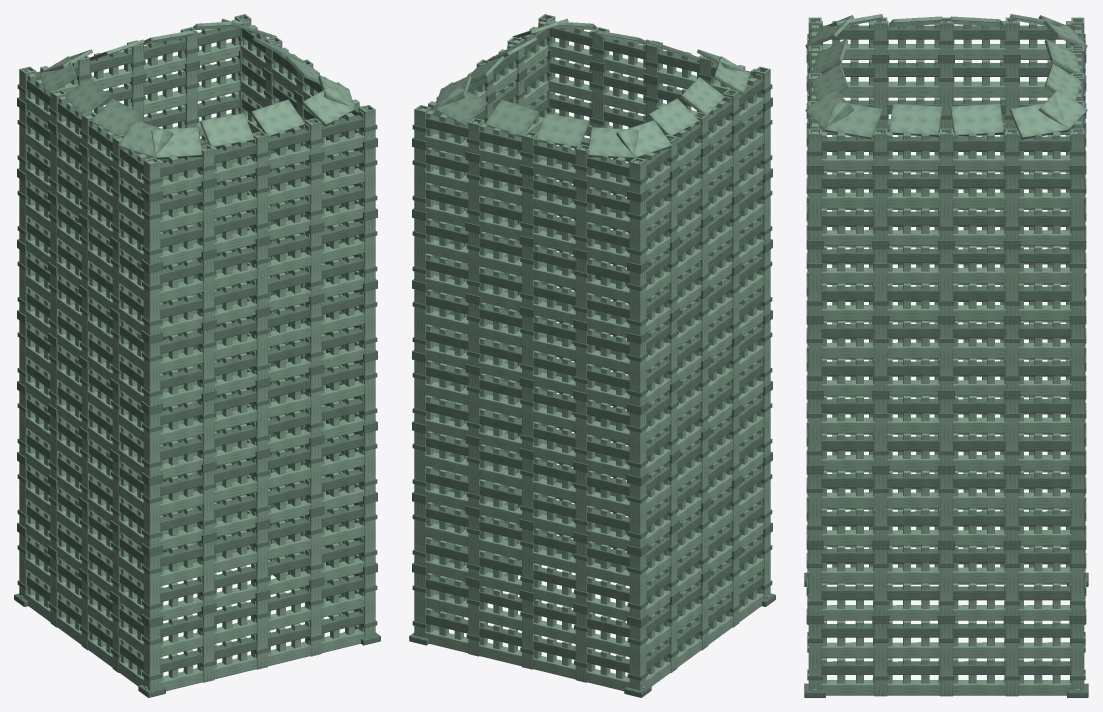
3 renders of one model, left to right at view 1: azimuth 30°, elevation 25°; view 2: azimuth 150°, elevation 25°; view 3: azimuth 270°, elevation 25°, orthographic. The views are drawn at different scales.
Visible parts, largest first — view 1: Crown alloy petal 0-1, Crown alloy petal 0-0, Crown alloy petal 0-2, Crown alloy petal 3-3, Crown alloy petal 3-2, Crown alloy petal 0-3, Tier 0 side 0 post 0, Tier 3 side 0 post 0, Tier 1 side 0 post 0, Tier 2 side 0 post 0, Tier 5 side 0 post 0, Tier 6 side 0 post 0 (+96 smaller); view 2: Crown alloy petal 2-2, Crown alloy petal 2-3, Crown alloy petal 2-1, Crown alloy petal 3-0, Crown alloy petal 3-1, Crown alloy petal 2-0, Tier 0 side 3 post 0, Tier 3 side 3 post 0, Tier 1 side 3 post 0, Tier 2 side 3 post 0, Tier 5 side 3 post 0, Tier 4 side 3 post 0 (+96 smaller); view 3: Crown alloy petal 1-2, Crown alloy petal 1-1, Crown alloy petal 1-0, Crown alloy petal 1-3, Crown alloy petal 0-3, Crown alloy petal 2-0, Tier 0 side 1 post 1, Tier 0 side 1 post 3, Tier 0 side 1 post 2, Tier 0 bay 1-1-3 shield lower edge, Tier 1 bay 1-1-3 shield lower edge, Tier 2 bay 1-1-3 shield lower edge (+178 smaller).
Boxes of the visible parts, left/top/right/bottom form: Crown alloy petal 0-1: left=200, top=113, right=254, bottom=147; Crown alloy petal 0-0: left=151, top=127, right=202, bottom=159; Crown alloy petal 0-2: left=250, top=99, right=305, bottom=136; Crown alloy petal 3-3: left=118, top=120, right=173, bottom=157; Crown alloy petal 3-2: left=91, top=98, right=141, bottom=136; Crown alloy petal 0-3: left=302, top=86, right=354, bottom=126; Tier 0 side 0 post 0: left=143, top=624, right=160, bottom=690; Tier 3 side 0 post 0: left=143, top=411, right=160, bottom=477; Tier 1 side 0 post 0: left=143, top=553, right=160, bottom=618; Tier 2 side 0 post 0: left=143, top=482, right=160, bottom=547; Tier 5 side 0 post 0: left=143, top=270, right=160, bottom=335; Tier 6 side 0 post 0: left=143, top=199, right=160, bottom=264; Crown alloy petal 2-2: left=535, top=113, right=589, bottom=148; Crown alloy petal 2-3: left=587, top=127, right=638, bottom=159; Crown alloy petal 2-1: left=485, top=99, right=539, bottom=137; Crown alloy petal 3-0: left=616, top=120, right=671, bottom=157; Crown alloy petal 3-1: left=648, top=98, right=698, bottom=135; Crown alloy petal 2-0: left=435, top=86, right=487, bottom=126; Tier 0 side 3 post 0: left=629, top=624, right=646, bottom=690; Tier 3 side 3 post 0: left=629, top=411, right=646, bottom=477; Tier 1 side 3 post 0: left=629, top=553, right=646, bottom=618; Tier 2 side 3 post 0: left=629, top=482, right=646, bottom=547; Tier 5 side 3 post 0: left=629, top=270, right=646, bottom=335; Tier 4 side 3 post 0: left=629, top=341, right=646, bottom=406; Crown alloy petal 1-2: left=950, top=103, right=1003, bottom=136; Crown alloy petal 1-1: left=889, top=103, right=942, bottom=136; Crown alloy petal 1-0: left=825, top=101, right=882, bottom=139; Crown alloy petal 1-3: left=1010, top=101, right=1067, bottom=139; Crown alloy petal 0-3: left=805, top=89, right=854, bottom=131; Crown alloy petal 2-0: left=1038, top=89, right=1087, bottom=131; Tier 0 side 1 post 1: left=874, top=624, right=887, bottom=696; Tier 0 side 1 post 3: left=1005, top=624, right=1018, bottom=696; Tier 0 side 1 post 2: left=940, top=624, right=952, bottom=696; Tier 0 bay 1-1-3 shield lower edge: left=1018, top=642, right=1071, bottom=658; Tier 1 bay 1-1-3 shield lower edge: left=1018, top=567, right=1071, bottom=583; Tier 2 bay 1-1-3 shield lower edge: left=1018, top=492, right=1071, bottom=508.
Size of the model in its own units: 1.95 by 4.36 by 1.95.
2 materials, 2 textured.
